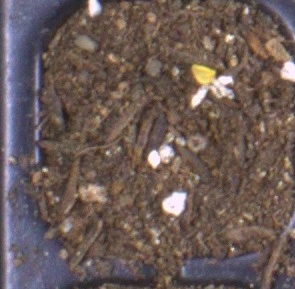chilli seed: (190, 63, 216, 85)
